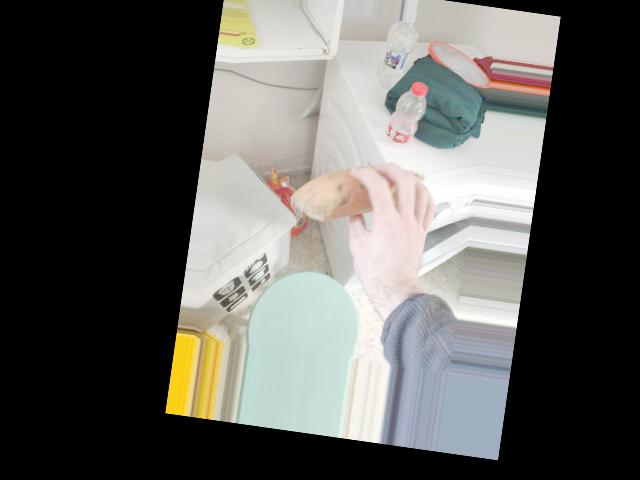sweet_potato: (293, 153, 432, 230)
